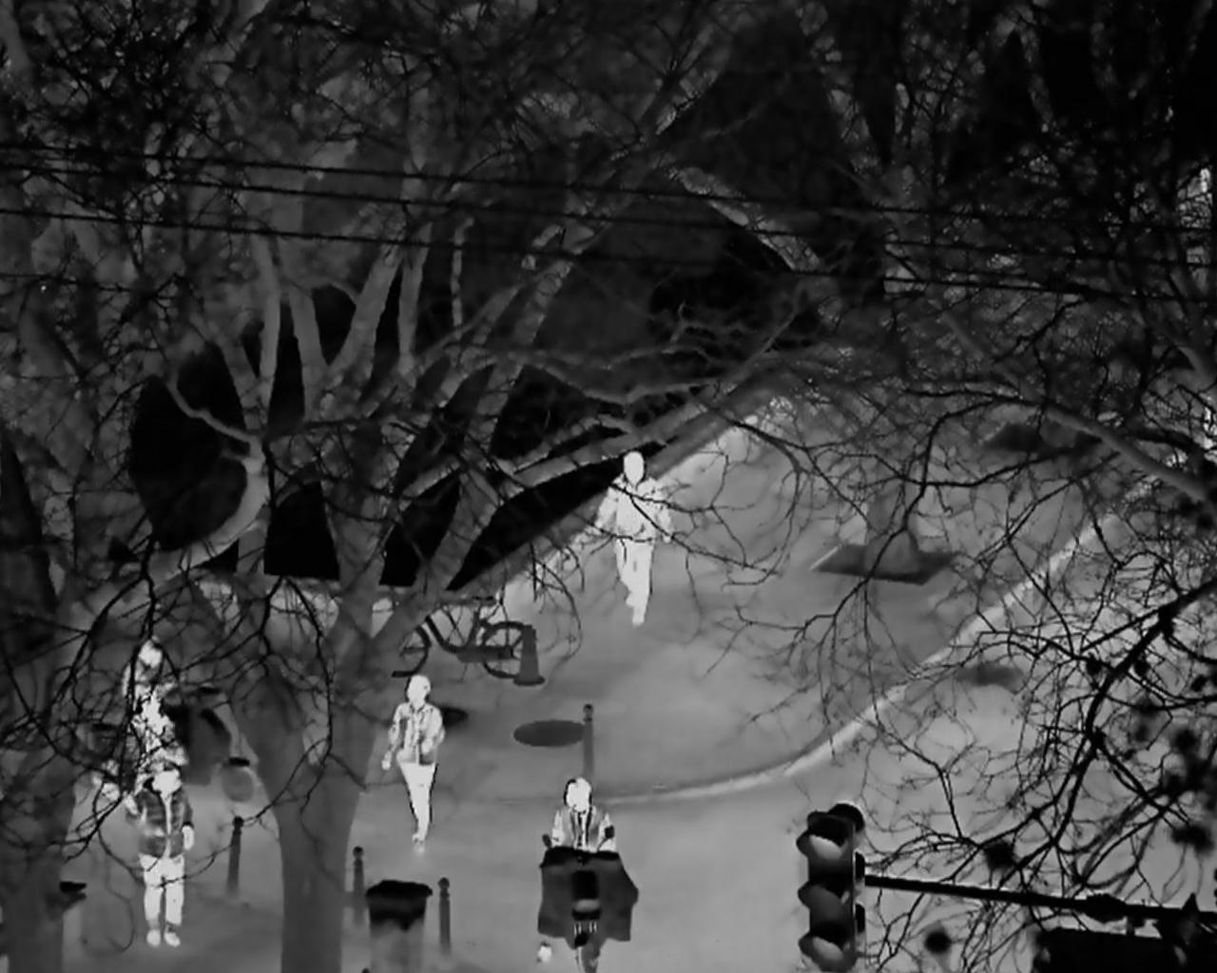person: (592, 447, 675, 627), (124, 765, 195, 949), (381, 673, 449, 847), (124, 639, 172, 789), (549, 778, 616, 853)
